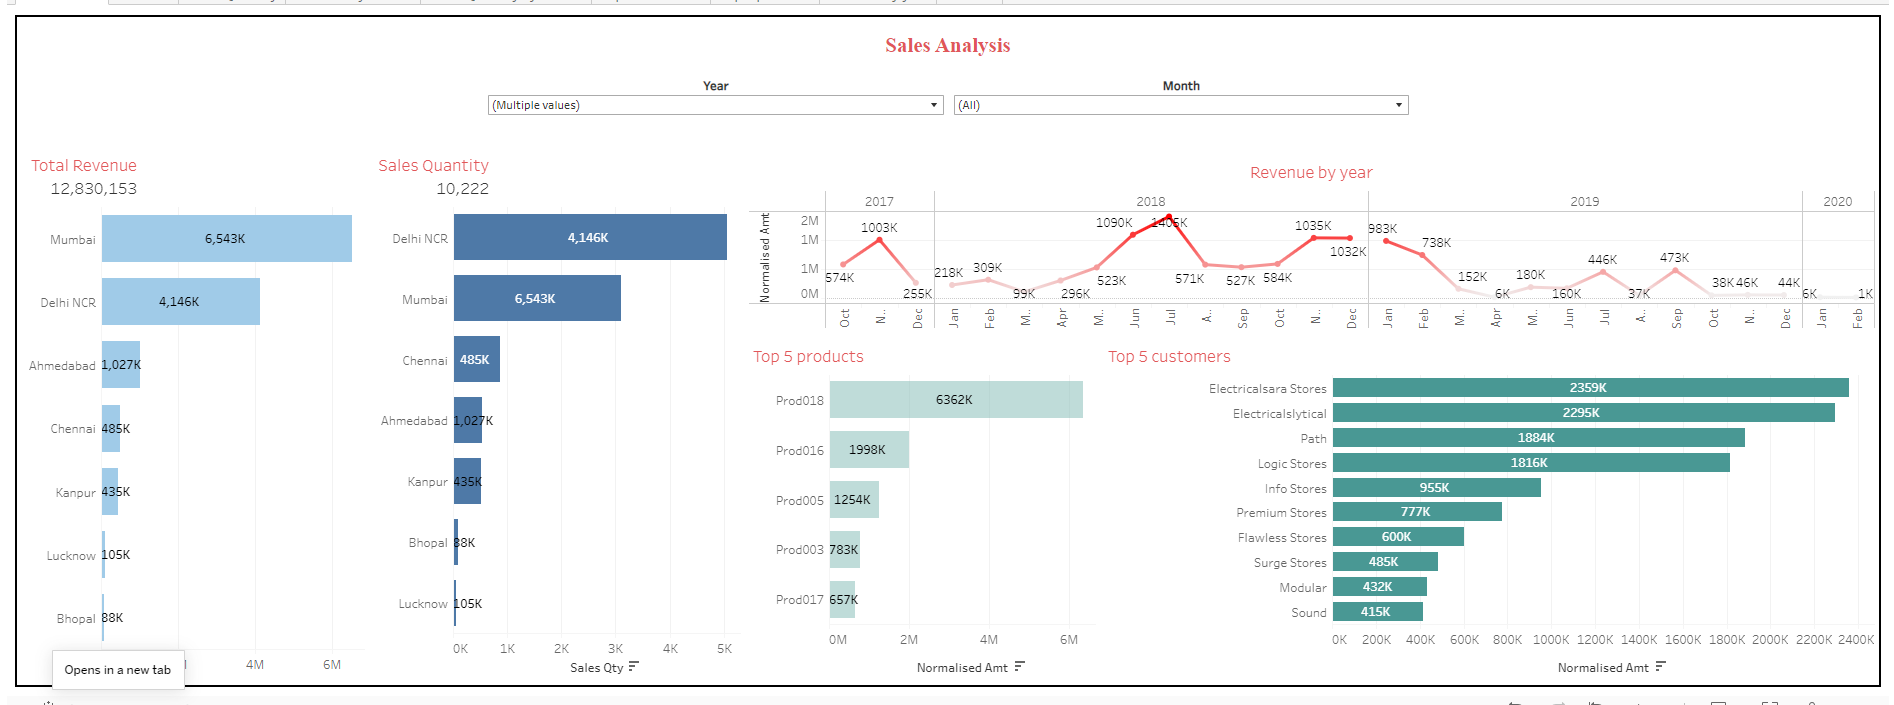

The dashboard page shown, as its layout file describes it:
{"tool":"tableau","page":{"name":"Dashboard 1","canvas":[1000,1000],"units":"permille","ordinal":0},"visuals":[{"type":"text","box":[6.5,13.4,987.1,73.7]},{"type":"blank","box":[6.5,87.1,246.9,89.8]},{"type":"filter","title":"Revenue by year","param":"[federated.0j76drn11cl47e0zz77jt13di1yx].[yr:cy_date:ok]","box":[253.4,87.1,246.9,89.8]},{"type":"filter","title":"Revenue by year","param":"[federated.0j76drn11cl47e0zz77jt13di1yx].[mn:cy_date:ok]","box":[500.3,87.1,246.9,89.8]},{"type":"blank","box":[747.2,87.1,246.3,89.8]},{"type":"worksheet","title":"Revenue","mark":"Automatic","box":[6.5,190.3,227.5,101.9]},{"type":"worksheet","title":"Sales Quantity","mark":"Automatic","box":[234,190.3,243.1,101.9]},{"type":"worksheet","title":"Revenue by year","mark":"Automatic","rows":["Calculation_998673258478493696"],"cols":["cy_date","cy_date"],"box":[477.1,190.3,516.2,276.2]},{"type":"worksheet","title":"Revenue by market","mark":"Automatic","rows":["markets_name"],"cols":["Calculation_998673258478493696"],"box":[6.5,292.2,227.5,694.4]},{"type":"worksheet","title":"Sales Quantity by Market","mark":"Automatic","rows":["markets_name"],"cols":["sales_qty"],"box":[234,292.2,243.1,694.3]},{"type":"worksheet","title":"Top 5 products","mark":"Automatic","rows":["product_code"],"cols":["Calculation_998673258478493696"],"box":[477.1,466.5,229.5,520.1]},{"type":"worksheet","title":"Top 5 customers","mark":"Automatic","rows":["custmer_name"],"cols":["Calculation_998673258478493696"],"box":[706.5,466.5,286.8,520.1]}]}

Visuals, with their boxes on the dashboard's canvas, which has no fixed pixel size, in thousandths of its width and height (x1, y1, x2, y2). These are canvas units, not pixel positions in the 1894x705 screenshot, which may show the page scaled, cropped or inside an application window:
text: {"left": 6, "top": 13, "right": 994, "bottom": 87}
blank: {"left": 6, "top": 87, "right": 253, "bottom": 177}
"Revenue by year" filter: {"left": 253, "top": 87, "right": 500, "bottom": 177}
"Revenue by year" filter: {"left": 500, "top": 87, "right": 747, "bottom": 177}
blank: {"left": 747, "top": 87, "right": 994, "bottom": 177}
"Revenue" worksheet: {"left": 6, "top": 190, "right": 234, "bottom": 292}
"Sales Quantity" worksheet: {"left": 234, "top": 190, "right": 477, "bottom": 292}
"Revenue by year" worksheet: {"left": 477, "top": 190, "right": 993, "bottom": 466}
"Revenue by market" worksheet: {"left": 6, "top": 292, "right": 234, "bottom": 987}
"Sales Quantity by Market" worksheet: {"left": 234, "top": 292, "right": 477, "bottom": 986}
"Top 5 products" worksheet: {"left": 477, "top": 466, "right": 707, "bottom": 987}
"Top 5 customers" worksheet: {"left": 706, "top": 466, "right": 993, "bottom": 987}
